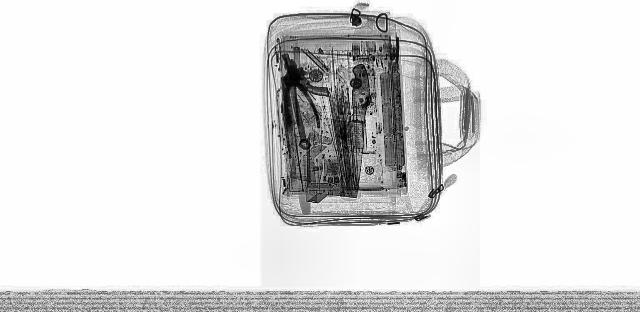Gun: (278, 52, 330, 96)
Knife: (340, 63, 370, 199)
Pliers: (270, 60, 322, 128)
